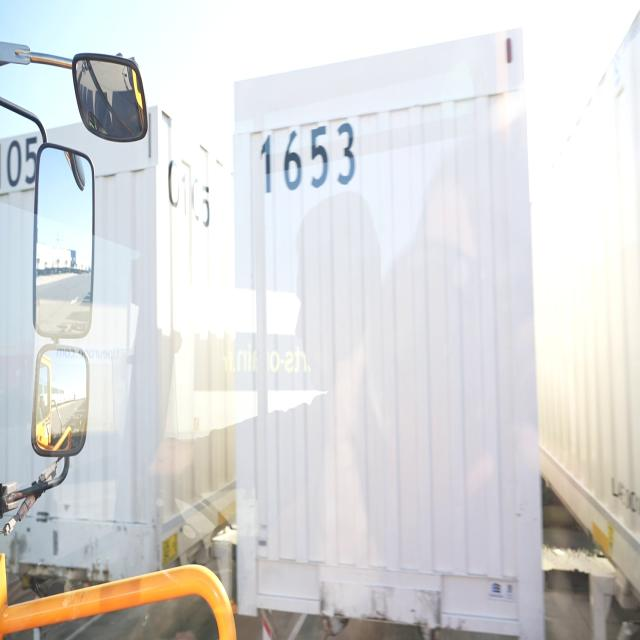Code: (256, 112, 360, 199)
